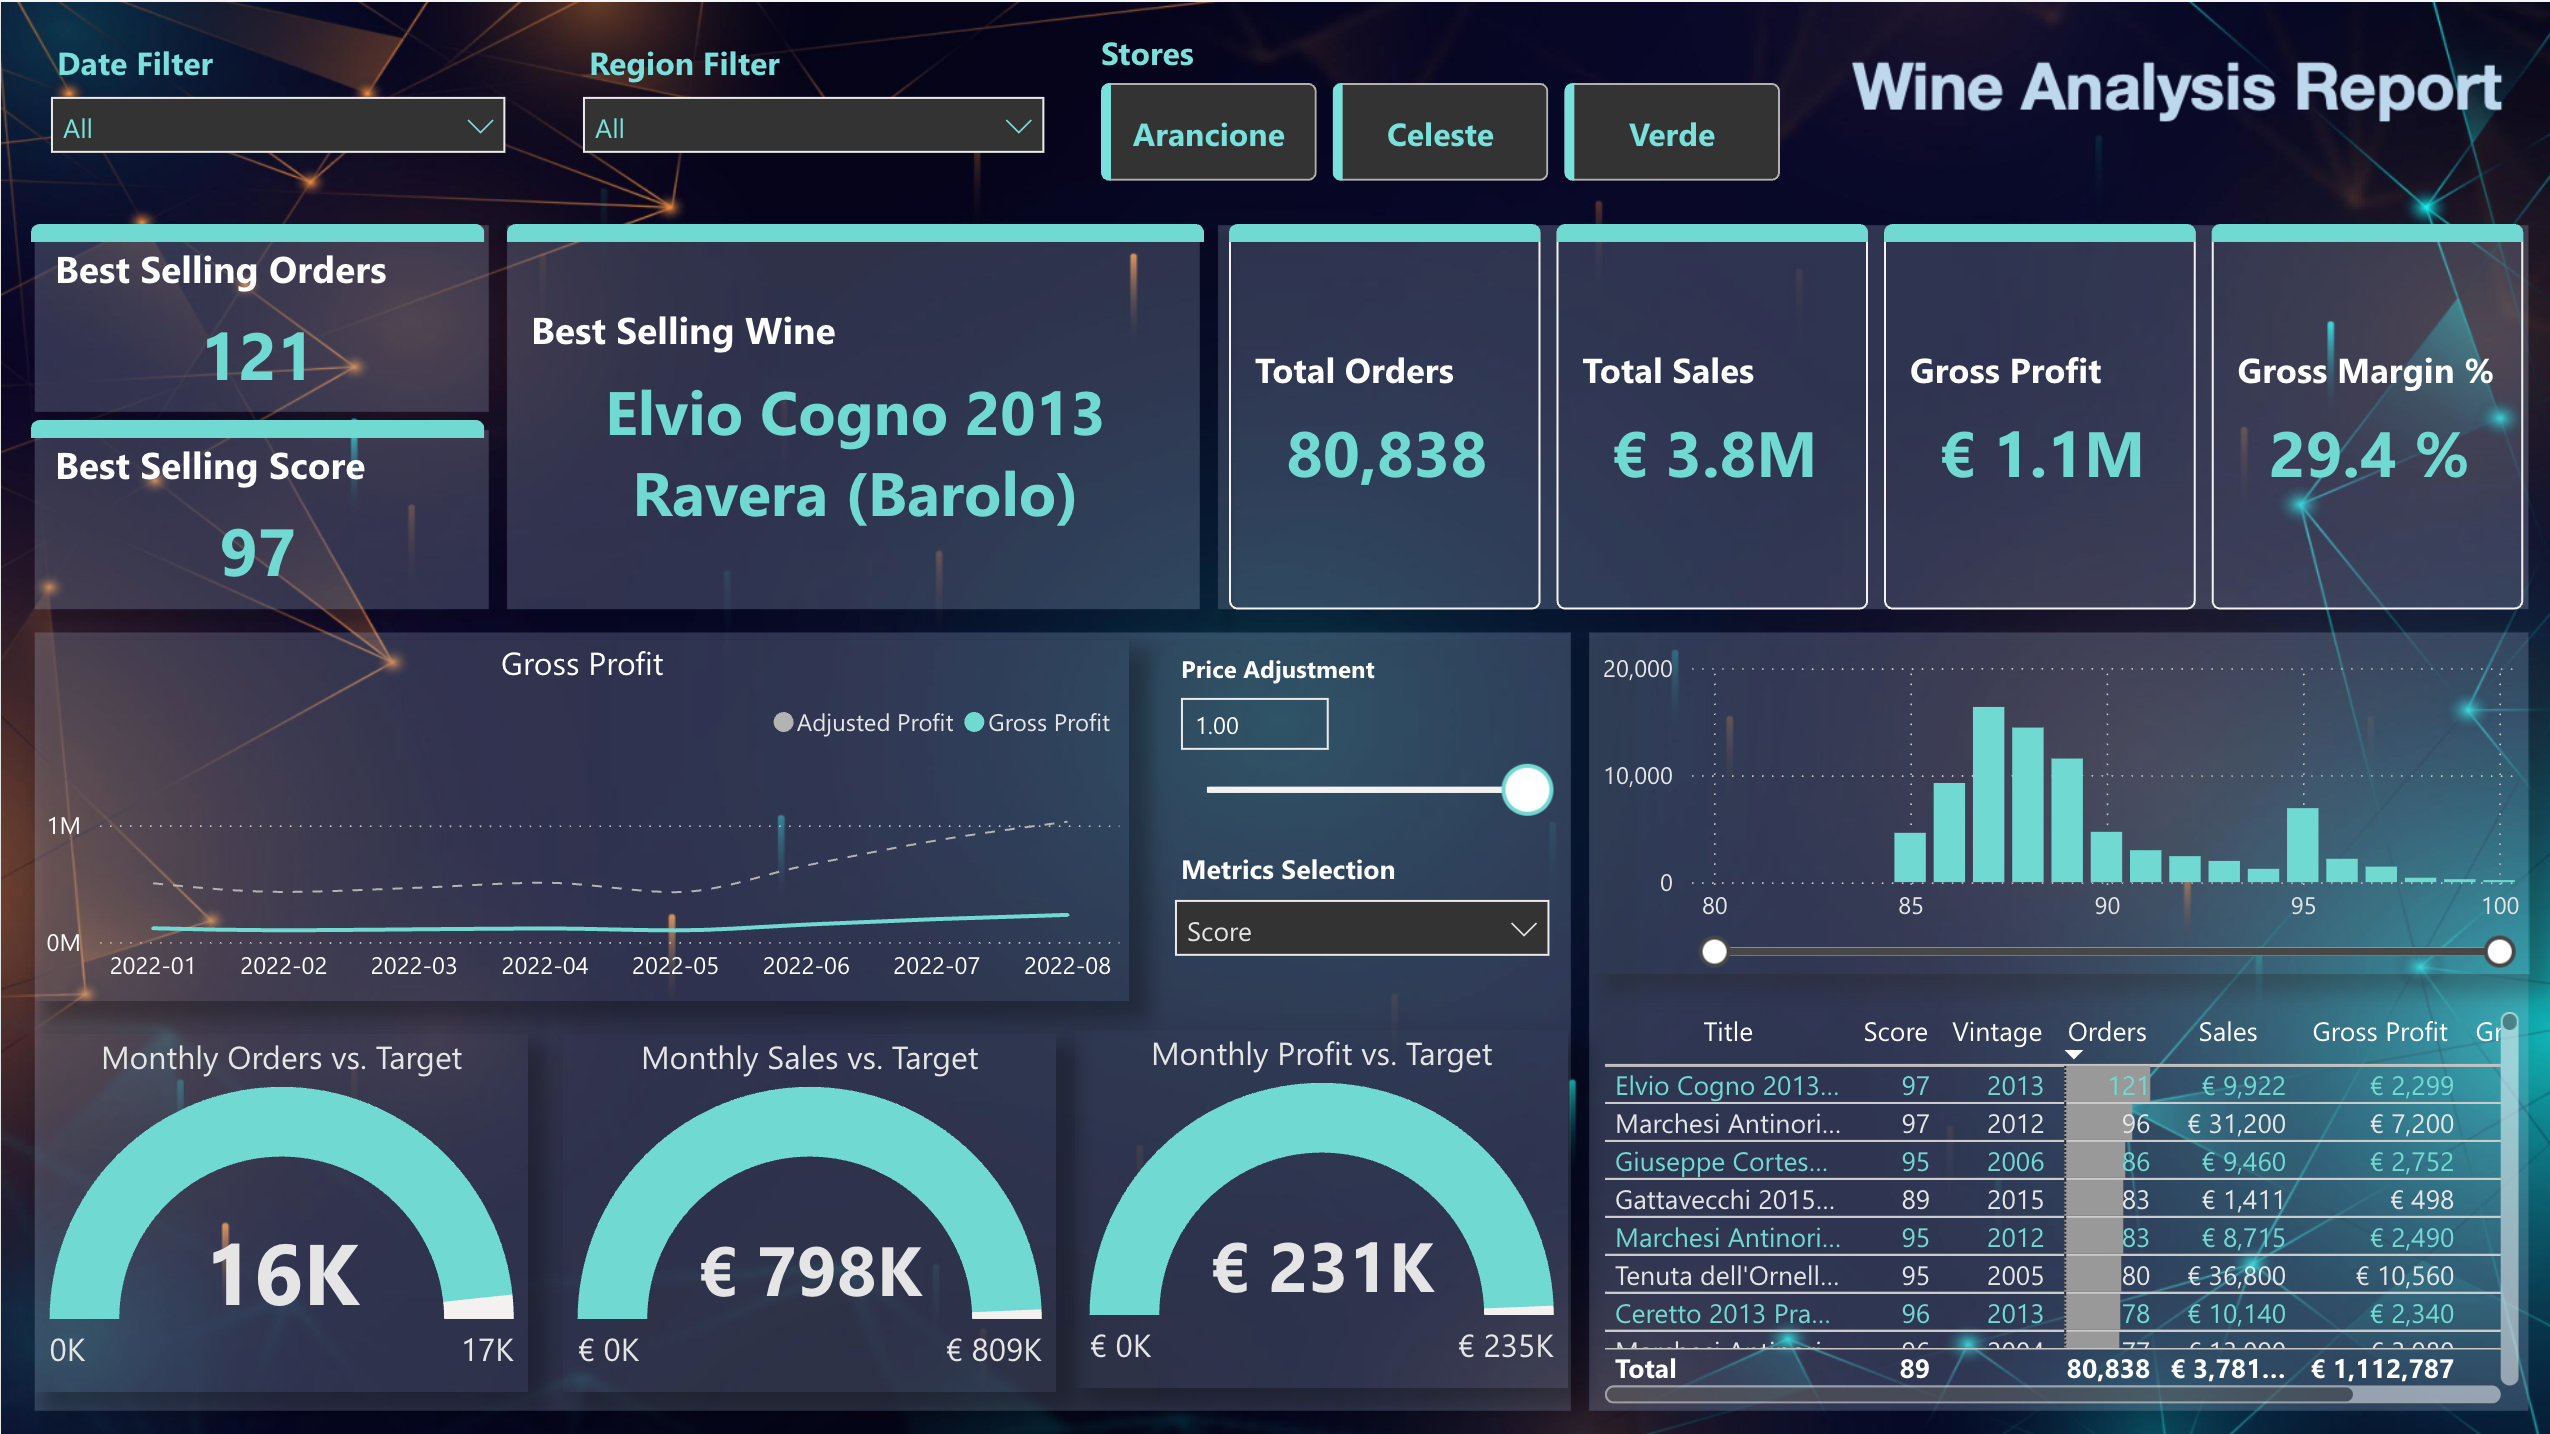

Layout of this report page (visuals, bound fields, positions):
{"tool":"powerbi","page":{"name":"Dashboard","canvas":[1280,720],"ordinal":0},"visuals":[{"type":"slicer","fields":{"Values":["dates.Date Hierarchy.DateYear","dates.Date Hierarchy.Quarter","dates.Date Hierarchy.YearMonth"]},"box":[15.5,13.9,247.7,80.5],"z":0},{"type":"slicer","fields":{"Values":["product.Country","product.Province"]},"box":[281.8,13.9,250.8,80.5],"z":1000},{"type":"advancedSlicerVisual","title":"Stores","fields":{"Values":["stores.StoreName"]},"box":[545.3,14.1,350.7,80.6],"z":2000},{"type":"tableEx","fields":{"Values":["product.Title","Measure Table.Average Score","product.Vintage","Measure Table.Total Orders","Measure Table.Total Sales","Measure Table.Gross Profit","Measure Table.Gross Margin %"]},"box":[797.4,500.5,468.5,206.1],"z":3000},{"type":"cardVisual","fields":{"Data":["Min(product.Title)"]},"box":[253.4,111.4,349.4,193.3],"z":4000},{"type":"cardVisual","fields":{"Data":["Measure Table.Total Orders"]},"box":[15.5,111.5,227.6,96],"z":5000},{"type":"cardVisual","fields":{"Data":["Measure Table.Average Score"]},"box":[15.5,209,227.6,96],"z":6000},{"type":"cardVisual","fields":{"Data":["Measure Table.Total Orders","Measure Table.Total Sales","Measure Table.Gross Profit","Measure Table.Gross Margin %"]},"box":[614.7,111.5,651.9,193.6],"z":7000},{"type":"lineChart","title":"Gross Profit","fields":{"Category":["dates.Date Hierarchy.DateYear","dates.Date Hierarchy.Quarter","dates.Date Hierarchy.YearMonth"],"Y":["Measure Table.Adjusted Profit","Measure Table.Gross Profit"]},"box":[17,319,548.1,181.2],"z":8000},{"type":"slicer","fields":{"Values":["price adjustment.price adjustment"]},"box":[577.5,320.5,207.5,97.5],"z":9000},{"type":"slicer","fields":{"Values":["Orders Distribution Metrics Selection.Orders Distribution Metrics Selection"]},"box":[577.5,419.6,207.5,97.5],"z":10000},{"type":"clusteredColumnChart","title":"Total Orders","fields":{"Category":["product.Score"],"Y":["Measure Table.Total Orders"]},"box":[797.4,319,469.2,167.2],"z":11000},{"type":"gauge","title":"Monthly Orders vs. Target","fields":{"Y":["Measure Table.Total Orders"],"MaxValue":["Measure Table.Target Orders"]},"box":[16.6,517.1,247,179.2],"z":12000},{"type":"gauge","title":"Monthly Sales vs. Target","fields":{"MaxValue":["Measure Table.Target Sales"],"Y":["Measure Table.Total Sales"]},"box":[281.6,517.1,247,179.2],"z":13000},{"type":"gauge","title":"Monthly Profit vs. Target","fields":{"Y":["Measure Table.Gross Profit"],"MaxValue":["Measure Table.Target Gross Profit"]},"box":[537.6,514.6,247,179.2],"z":14000}]}

Visuals, with their boxes in screenshot pixels (x1, y1, x2, y2), scaled from the page's 1280x720 canvas onto the 2550x1434 screenshot:
slicer - dates.Date Hierarchy.DateYear x dates.Date Hierarchy.Quarter: <region>31, 28, 524, 188</region>
slicer - product.Country x product.Province: <region>561, 28, 1061, 188</region>
"Stores" advancedSlicerVisual: <region>1086, 28, 1785, 189</region>
tableEx - product.Title x Measure Table.Average Score: <region>1589, 997, 2522, 1407</region>
cardVisual - Min(product.Title): <region>505, 222, 1201, 607</region>
cardVisual - Measure Table.Total Orders: <region>31, 222, 484, 413</region>
cardVisual - Measure Table.Average Score: <region>31, 416, 484, 607</region>
cardVisual - Measure Table.Total Orders x Measure Table.Total Sales: <region>1225, 222, 2523, 608</region>
"Gross Profit" lineChart: <region>34, 635, 1126, 996</region>
slicer - price adjustment.price adjustment: <region>1150, 638, 1564, 833</region>
slicer - Orders Distribution Metrics Selection.Orders Distribution Metrics Selection: <region>1150, 836, 1564, 1030</region>
"Total Orders" clusteredColumnChart: <region>1589, 635, 2523, 968</region>
"Monthly Orders vs. Target" gauge: <region>33, 1030, 525, 1387</region>
"Monthly Sales vs. Target" gauge: <region>561, 1030, 1053, 1387</region>
"Monthly Profit vs. Target" gauge: <region>1071, 1025, 1563, 1382</region>
